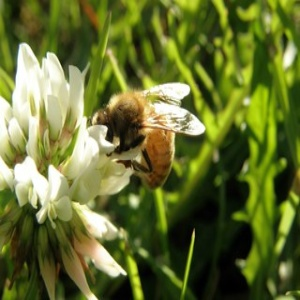bee: (90, 81, 206, 199)
